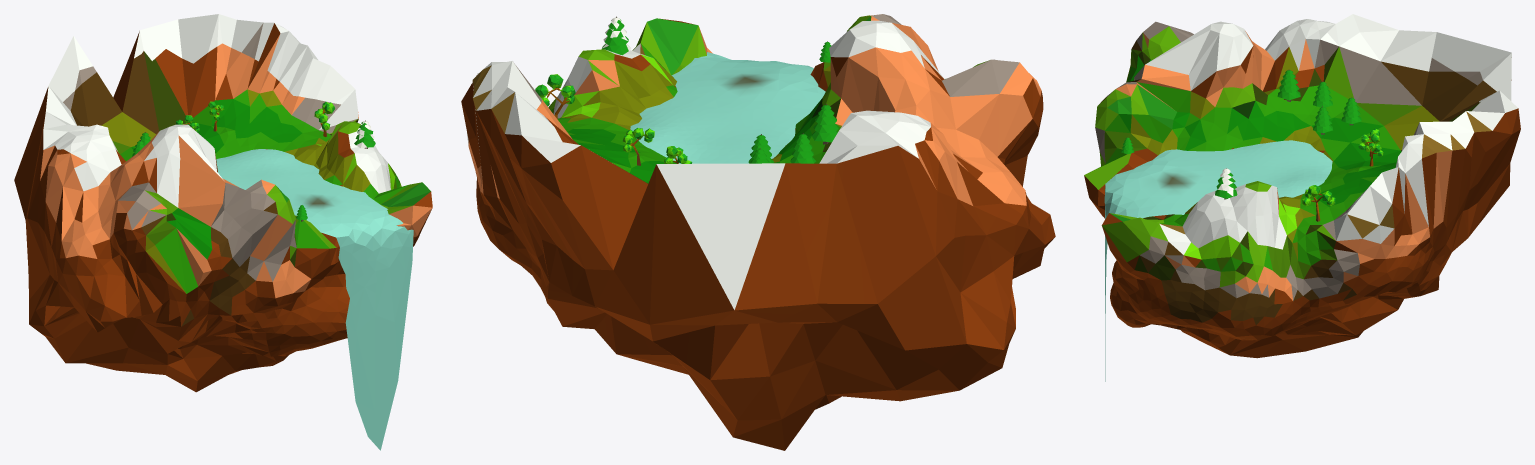
Rendered from untitleqwed_v2.fbx.
3 views of the same model, side by side, from view 1: azimuth 30°, elevation 25°; view 2: azimuth 150°, elevation 25°; view 3: azimuth 270°, elevation 25° (orthographic). The views are drawn at different scales.
Visible parts, largest first — view 1: Icosphere, Plane; view 2: Icosphere, Plane, Plane.004, Cube.001, Plane.005; view 3: Icosphere, Plane, Cube.001, Plane.004, Plane.005.
Part boxes in pixels (x1,y1,x2,y2): Icosphere: [14, 14, 432, 392]; Plane: [216, 149, 413, 450]; Icosphere: [461, 14, 1055, 450]; Plane: [630, 52, 825, 163]; Plane.004: [812, 104, 838, 144]; Cube.001: [535, 74, 575, 118]; Plane.005: [602, 16, 631, 55]; Icosphere: [1084, 14, 1520, 358]; Plane: [1104, 140, 1332, 381]; Cube.001: [1302, 185, 1335, 221]; Plane.004: [1277, 69, 1300, 101]; Plane.005: [1215, 168, 1237, 199].
Bounding box in the file's own units: 2671 × 2261 × 2570.
